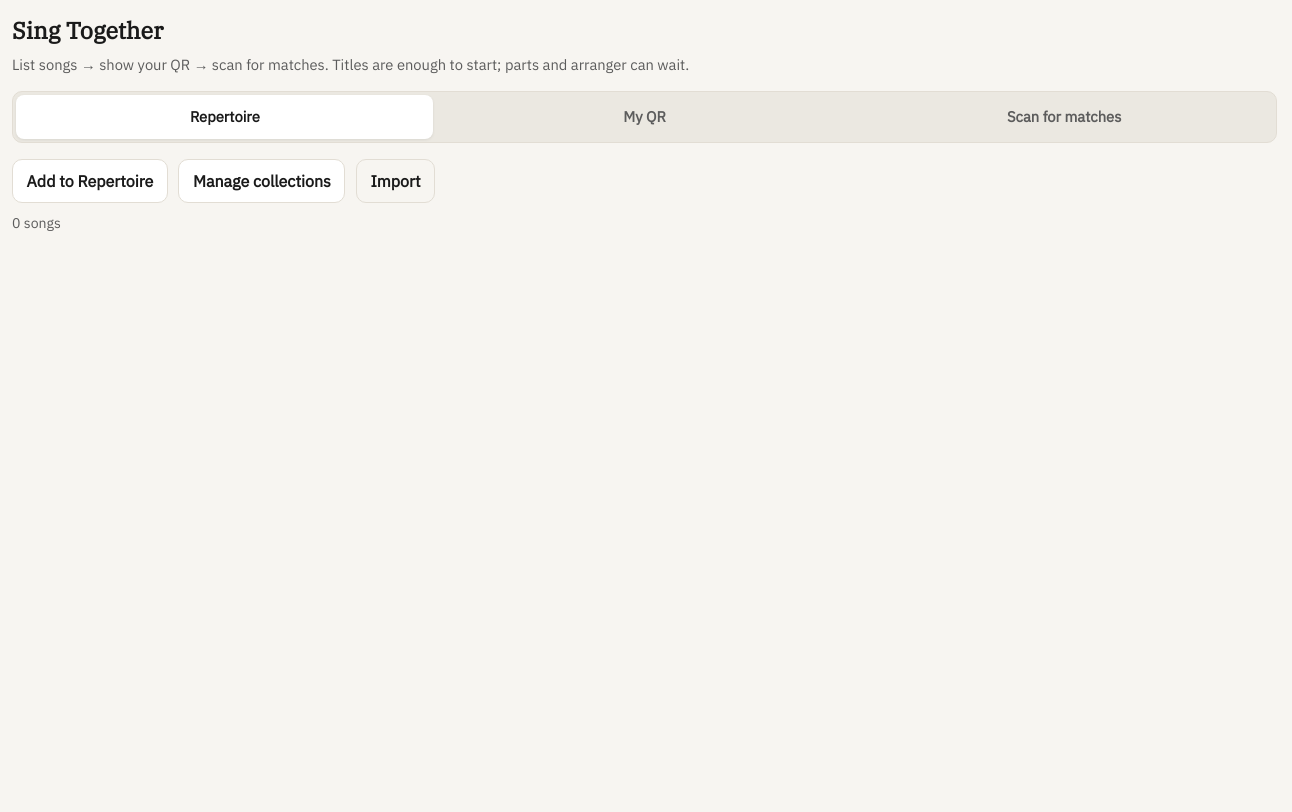
Test case: SingTogetherView usability phases › Enter advances Quick Add; Shift+Enter commits the row
The width and height of the screenshot is (1292, 812).
Click the button "Add to Repertoire" at (90, 181), box [12,159,168,203]
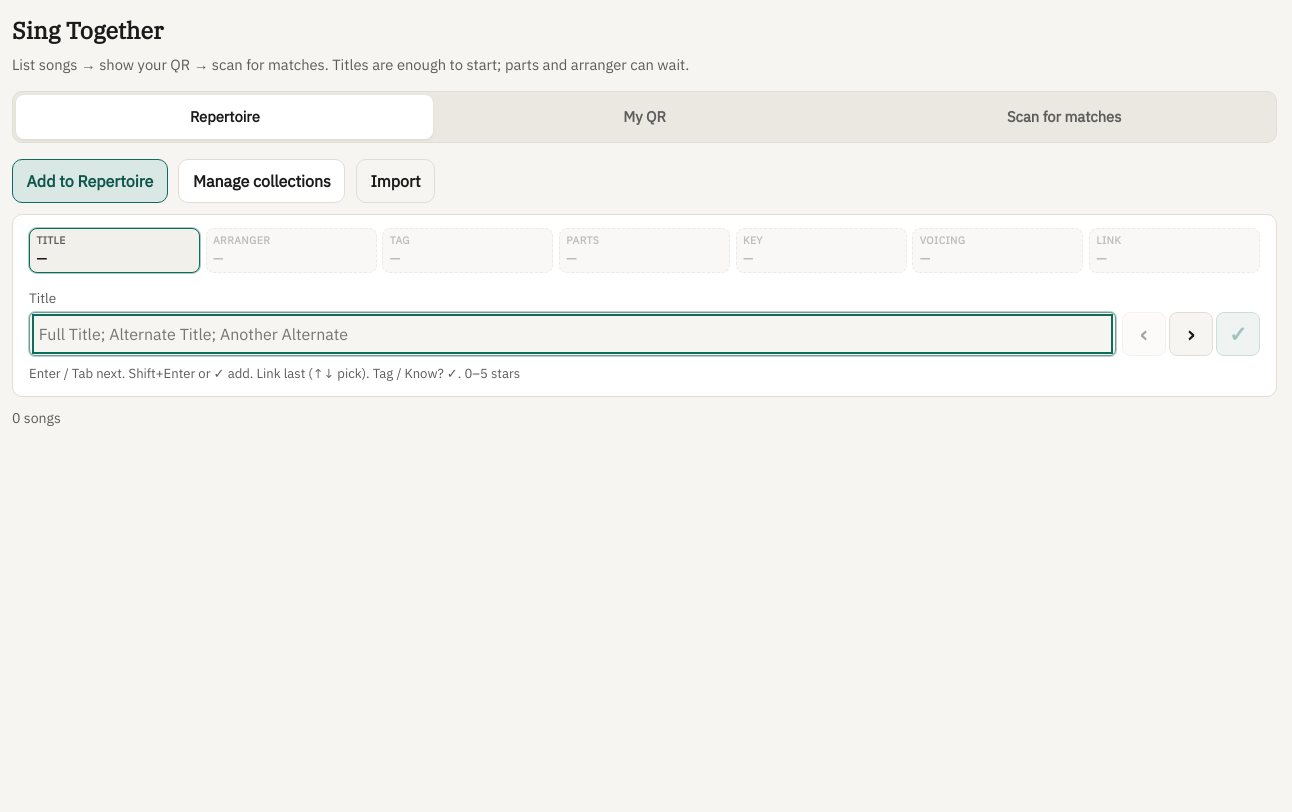
Now the element named "Quick add song" is shown, box [29,228,1260,383]
Type "Quick Song" into the field with placeholder "Full Title; Alternate Title; Another Alternate" at (573, 334), box [36,318,1109,350]
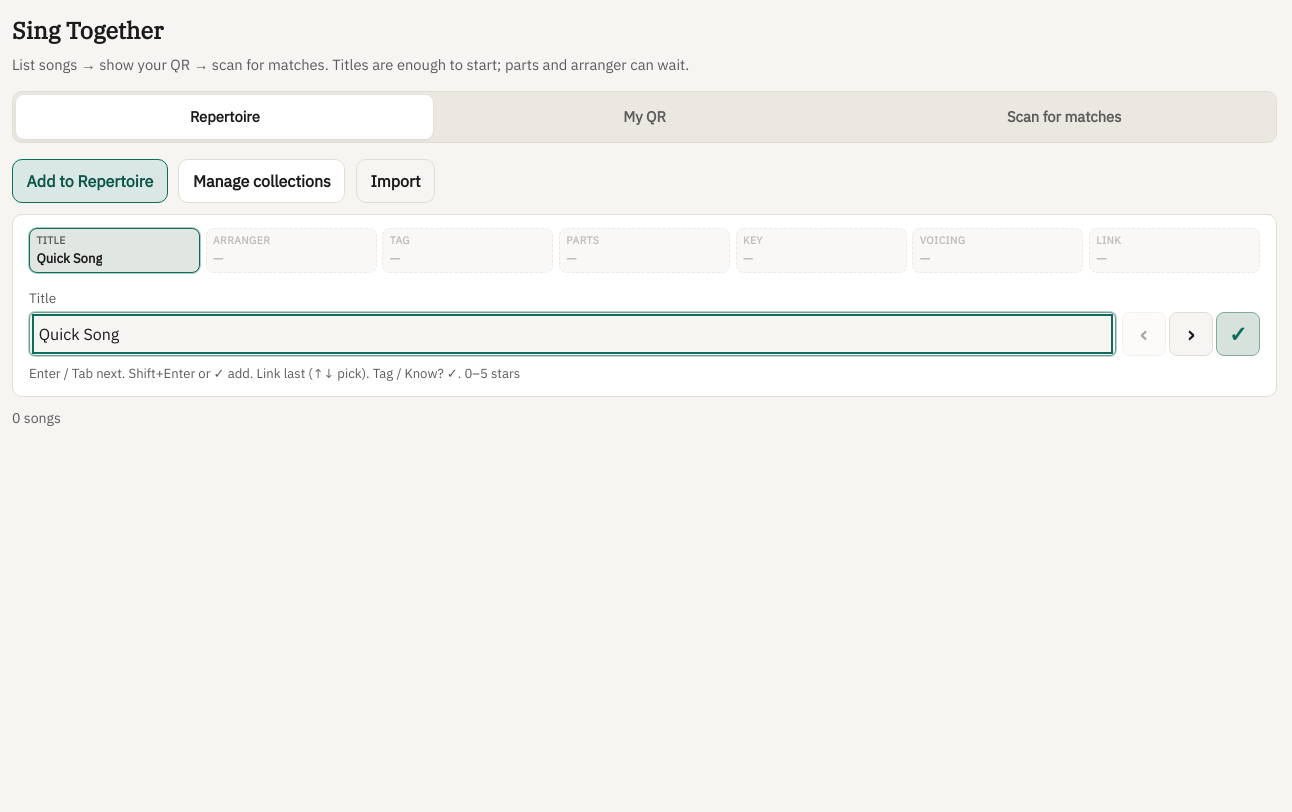
Press Enter in the field, box [36,318,1109,350]
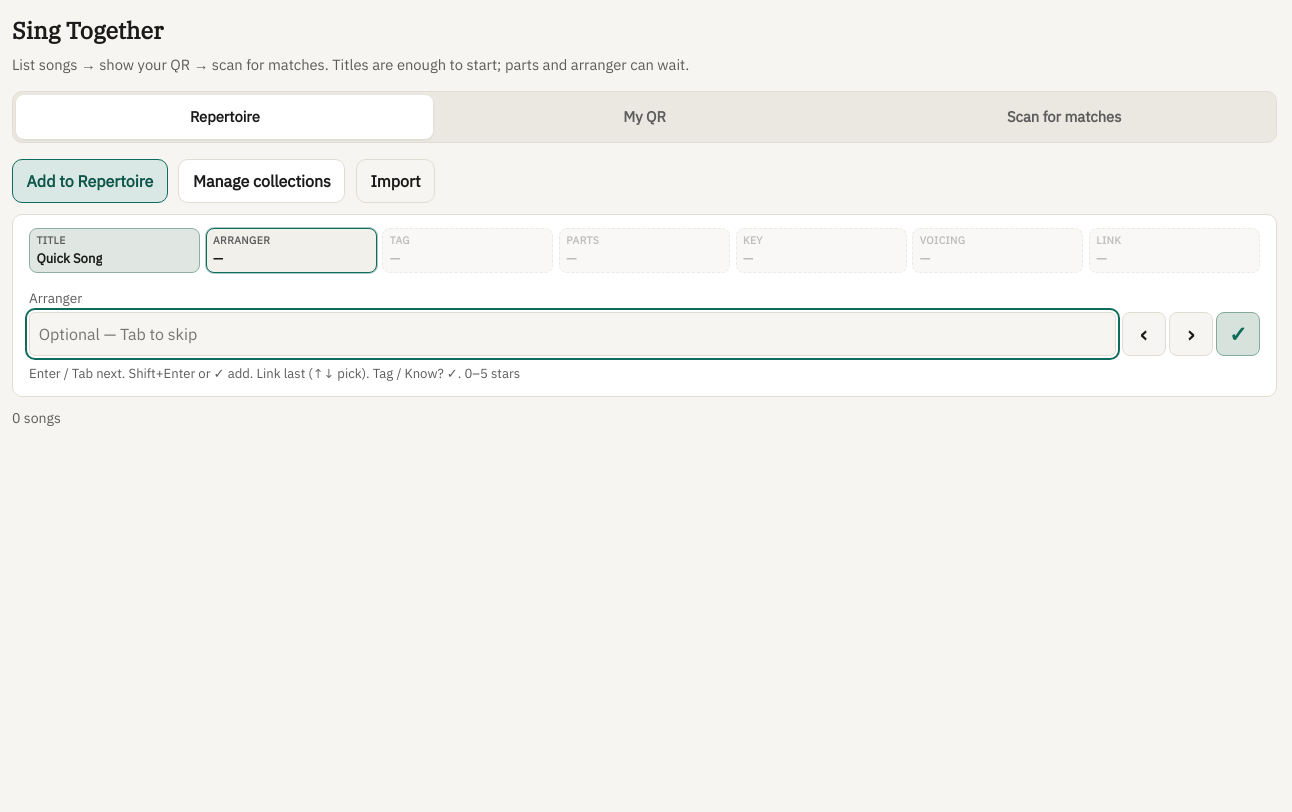
Now the field labelled "Arranger" is shown, box [29,312,1116,356]
Press Enter in the element named "Quick add song", box [29,228,1260,383]
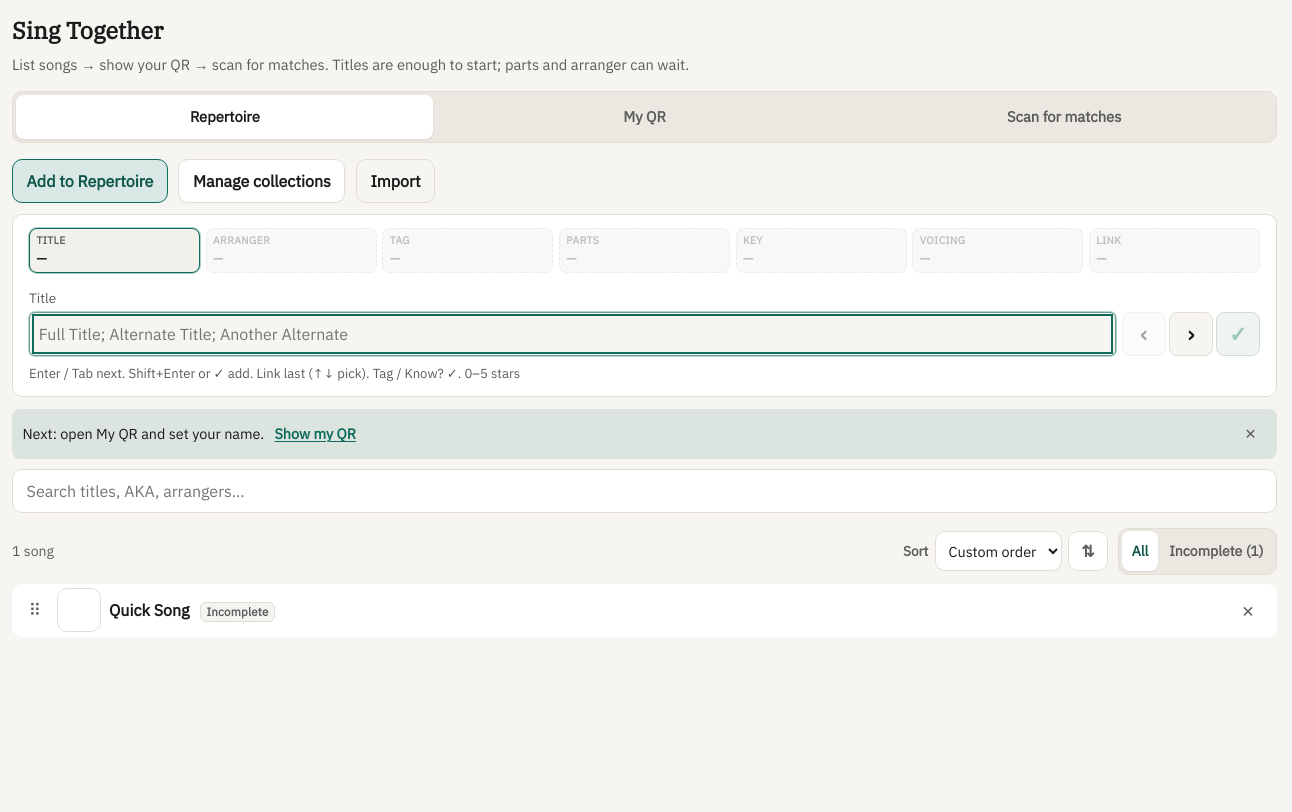
Now the text "Quick Song" is shown, box [109,599,190,622]
Now the text "Incomplete" is shown, box [1160,532,1273,572]
Now the button "×" is shown, box [1228,590,1268,630]
